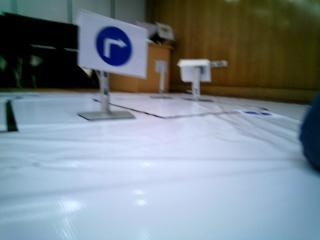right: (89, 19, 142, 72)
